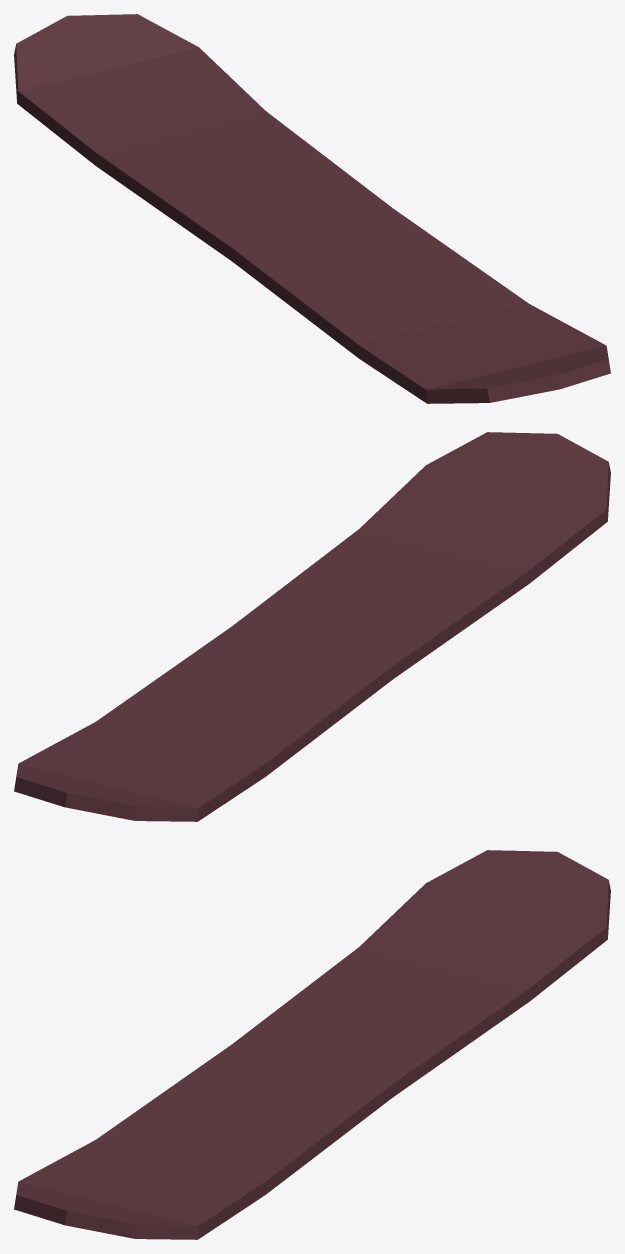
Rendered from snowboard.fbx.
3 views of the same model, one above another, from view 1: azimuth 30°, elevation 25°; view 2: azimuth 150°, elevation 25°; view 3: azimuth 330°, elevation 25° (orthographic).
Visible parts, largest first — view 1: snowboard; view 2: snowboard; view 3: snowboard.
Part boxes in pixels (x1,y1,x2,y2): snowboard: (14,14,610,403); snowboard: (14,432,610,821); snowboard: (14,850,610,1239).
Size of the model in its own units: 0.3658 by 0.0894 by 1.74.
